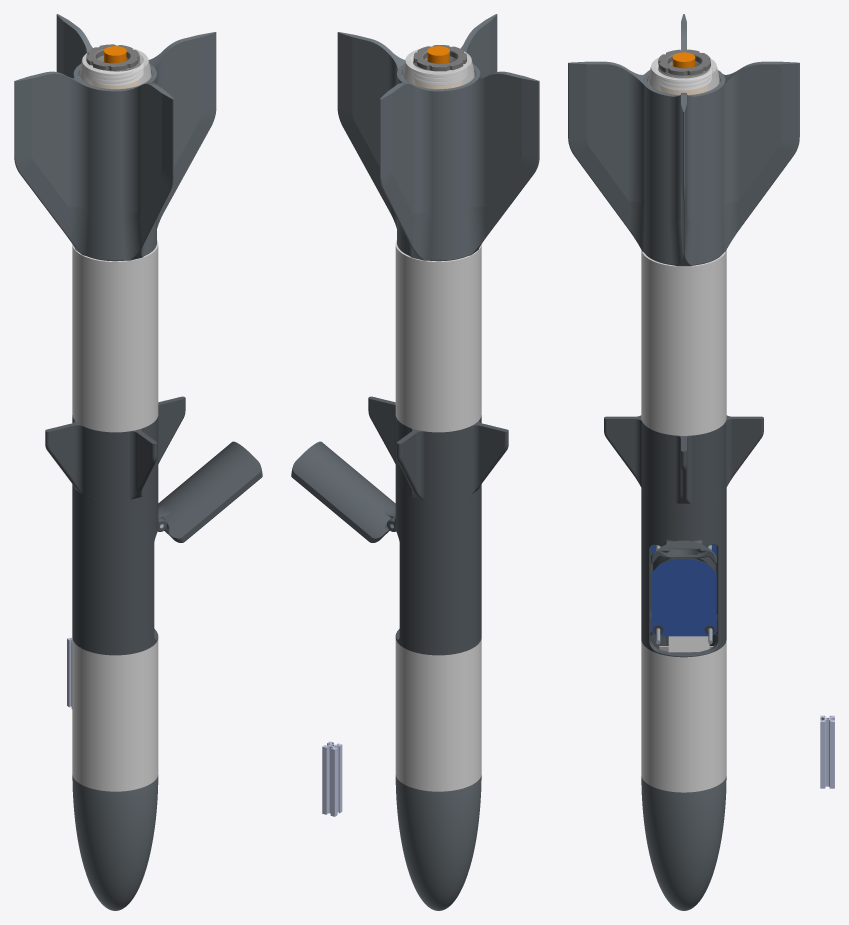
File: Assembly 1.obj
3 renders of one model, left to right at view 1: azimuth 30°, elevation 25°; view 2: azimuth 150°, elevation 25°; view 3: azimuth 270°, elevation 25°, orthographic.
Visible parts, largest first — view 1: mesh69, mesh76, mesh596, mesh58, mesh343, mesh270, mesh367, mesh441, mesh13, mesh348, mesh344, mesh463 (+17 smaller); view 2: mesh69, mesh76, mesh596, mesh58, mesh383, mesh270, mesh373, mesh435, mesh14, mesh370, mesh384, mesh400 (+17 smaller); view 3: mesh69, mesh596, mesh58, mesh76, mesh623, mesh464, mesh406, mesh416, mesh451, mesh16, mesh15, mesh403 (+15 smaller).
Part boxes in pixels (bbox=[...]): mesh69: bbox=[72, 245, 158, 432]; mesh76: bbox=[72, 484, 158, 655]; mesh596: bbox=[72, 638, 158, 791]; mesh58: bbox=[72, 775, 158, 910]; mesh343: bbox=[87, 87, 124, 260]; mesh270: bbox=[158, 441, 260, 538]; mesh367: bbox=[32, 73, 67, 205]; mesh441: bbox=[165, 37, 201, 166]; mesh13: bbox=[83, 426, 128, 500]; mesh348: bbox=[68, 77, 89, 208]; mesh344: bbox=[121, 85, 140, 215]; mesh463: bbox=[141, 84, 161, 213]; mesh69: bbox=[395, 245, 481, 432]; mesh76: bbox=[395, 484, 481, 655]; mesh596: bbox=[395, 638, 481, 791]; mesh58: bbox=[395, 775, 481, 910]; mesh383: bbox=[429, 87, 466, 260]; mesh270: bbox=[293, 441, 395, 538]; mesh373: bbox=[486, 73, 521, 205]; mesh435: bbox=[352, 37, 388, 166]; mesh14: bbox=[425, 426, 470, 500]; mesh370: bbox=[464, 77, 485, 208]; mesh384: bbox=[413, 85, 432, 215]; mesh400: bbox=[392, 84, 412, 213]; mesh69: bbox=[641, 250, 726, 435]; mesh596: bbox=[641, 641, 726, 792]; mesh58: bbox=[641, 776, 726, 910]; mesh76: bbox=[641, 488, 726, 657]; mesh623: bbox=[651, 545, 716, 636]; mesh464: bbox=[586, 64, 627, 199]; mesh406: bbox=[740, 64, 781, 199]; mesh416: bbox=[696, 86, 723, 264]; mesh451: bbox=[644, 86, 671, 264]; mesh16: bbox=[642, 422, 675, 502]; mesh15: bbox=[692, 422, 725, 502]; mesh403: bbox=[722, 72, 739, 205].
Size of the model in its own units: 0.1813 by 0.6403 by 0.1816.
